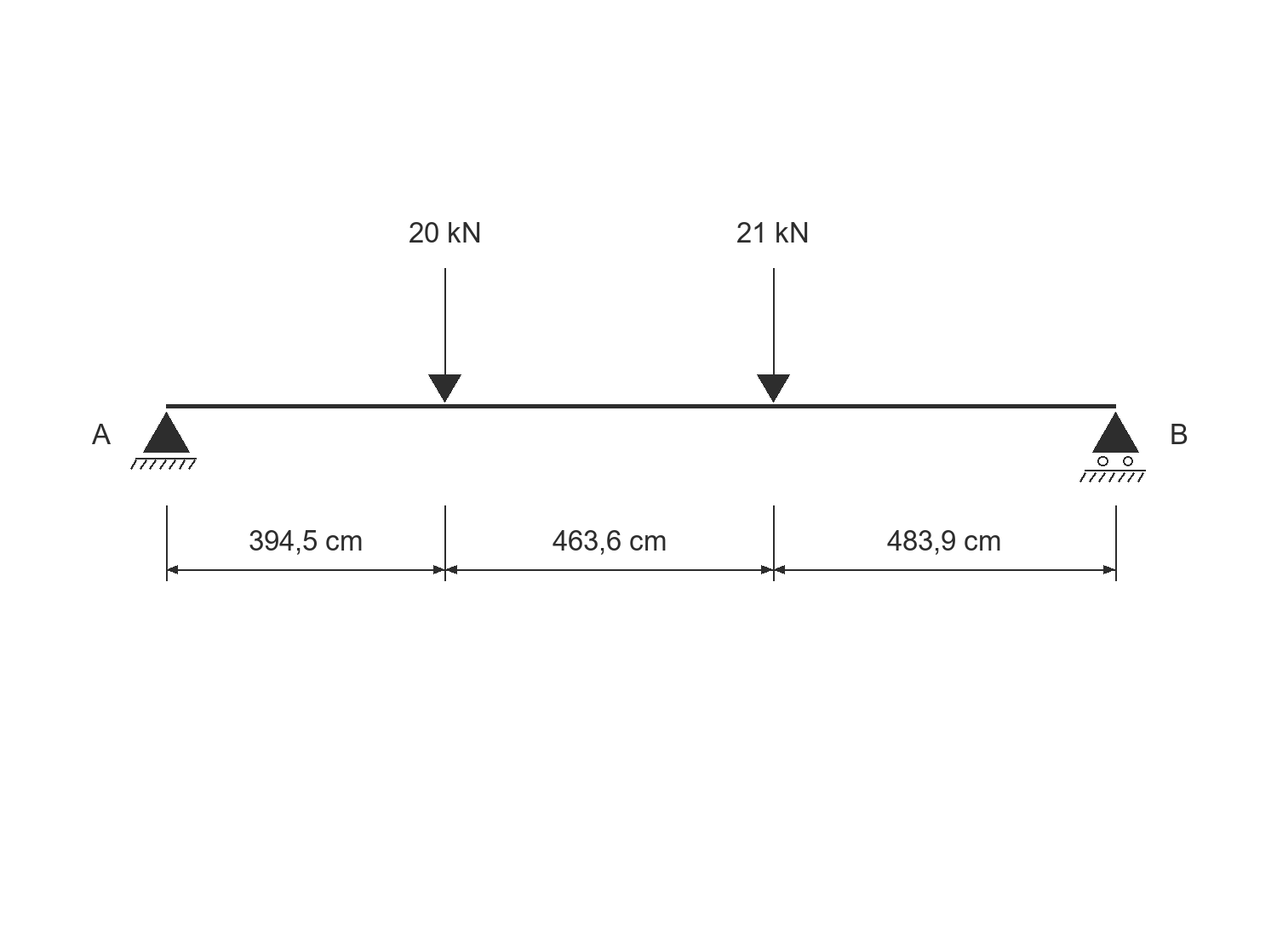pin_support: (130, 412, 197, 470)
point_load: (428, 268, 461, 402), (757, 268, 790, 402)
roller_support: (1079, 412, 1146, 482)
